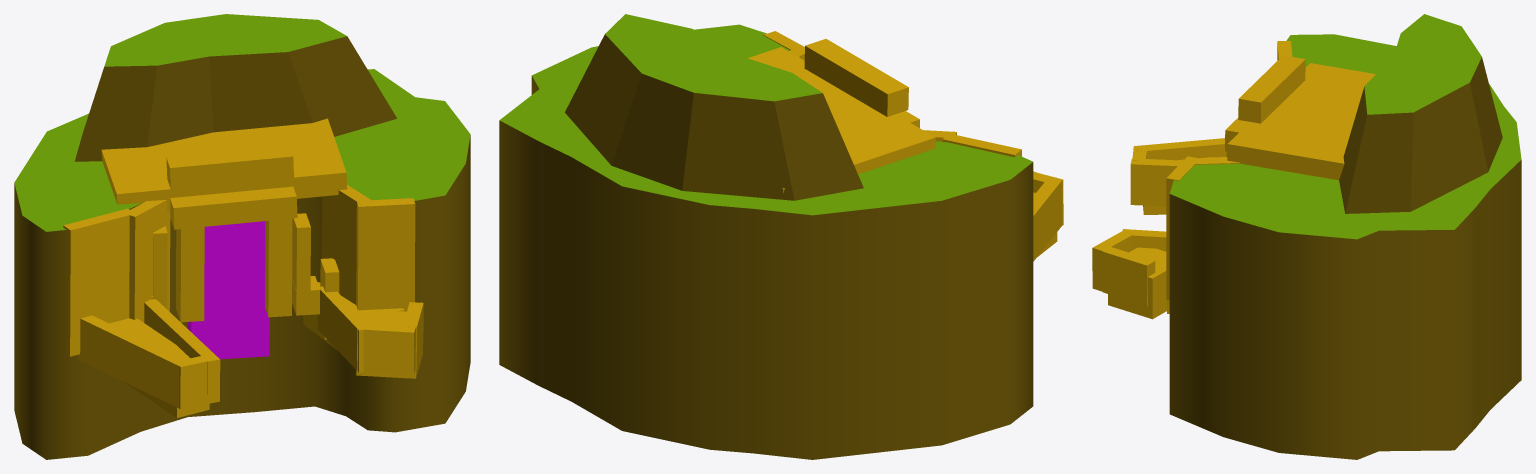
The model's file is SM_W_MainPortal.fbx.
3 renders of one model, left to right at view 1: azimuth 30°, elevation 25°; view 2: azimuth 150°, elevation 25°; view 3: azimuth 270°, elevation 25°, orthographic. The views are drawn at different scales.
Visible parts, largest first — view 1: Cube__75_2; view 2: Cube__75_2; view 3: Cube__75_2.
Boxes of the visible parts, bbox=[...] form: Cube__75_2: bbox=[14, 14, 470, 459]; Cube__75_2: bbox=[499, 14, 1063, 459]; Cube__75_2: bbox=[1092, 14, 1521, 459].
Bounding box in the file's own units: 440 × 302 × 390.
